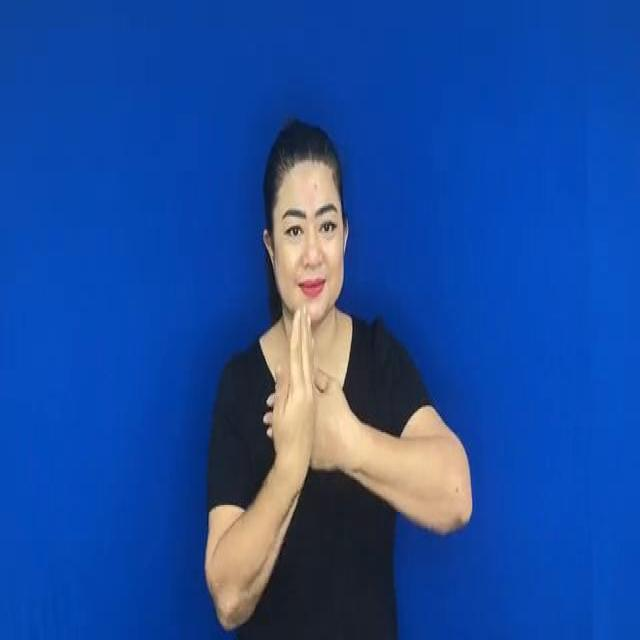bread: (265, 319, 365, 493)
